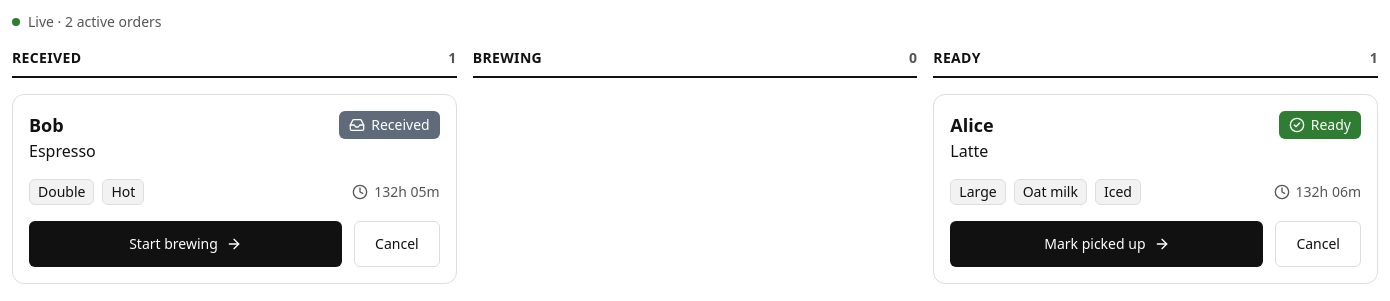
Test: BaristaQueue › removes an order from the queue once it is picked up
Click the button "Mark picked up" at [1107, 244], box [950, 221, 1263, 267]
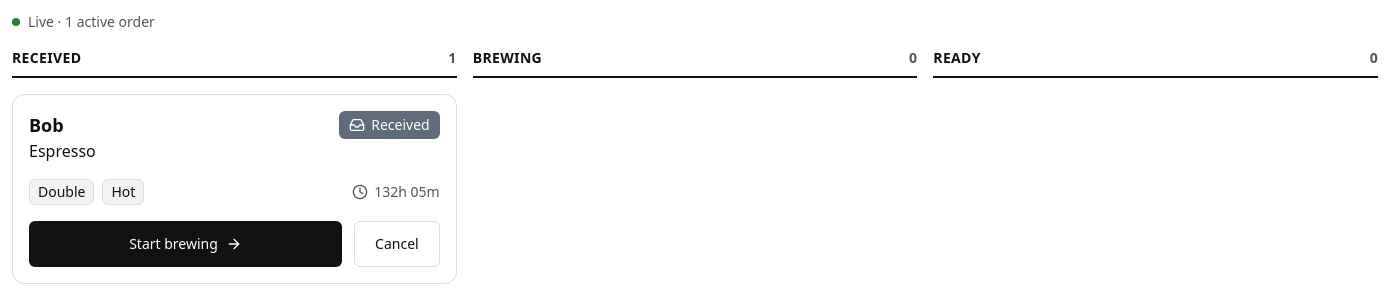
Check: the heading "Bob" is shown, box [29, 113, 64, 137]
Check: the heading "Alice" is gone
